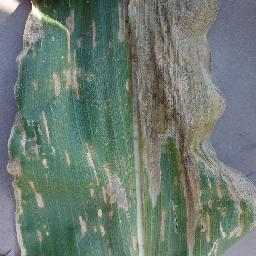Gray_Leaf_Spot: (118, 0, 228, 256), (49, 0, 84, 104), (6, 165, 45, 256), (227, 162, 256, 250), (14, 0, 47, 68), (85, 139, 117, 205), (74, 205, 116, 254), (21, 107, 50, 169), (4, 70, 21, 164), (89, 17, 102, 52), (61, 146, 70, 170), (87, 68, 96, 84), (102, 98, 109, 113), (32, 79, 39, 93)
